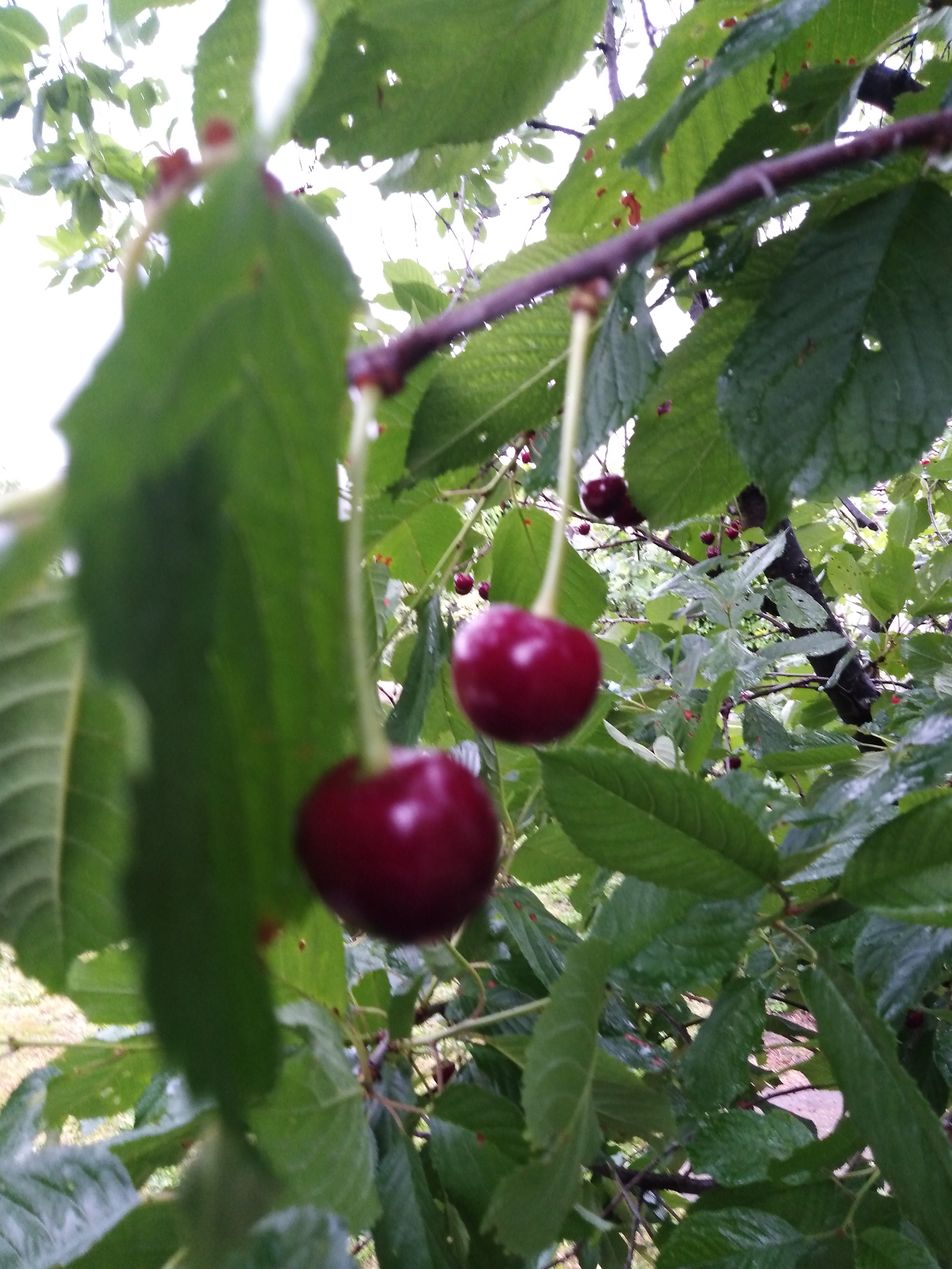Cherry: (577, 451, 643, 540)
